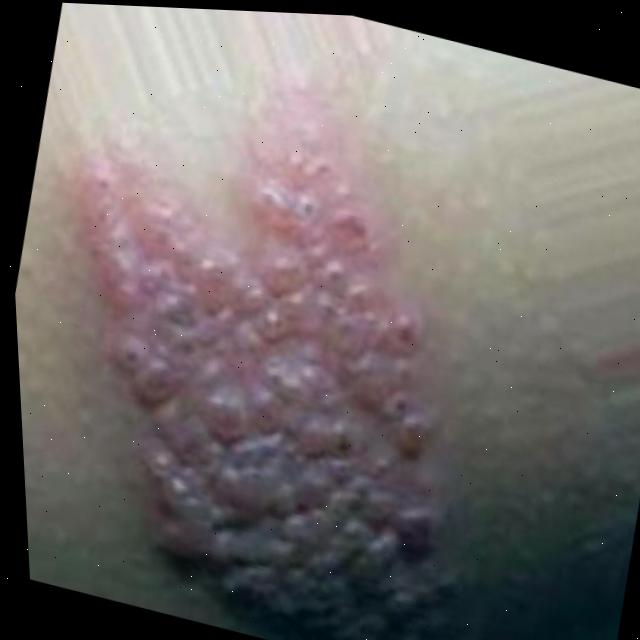Shingles: (5, 95, 537, 640)
